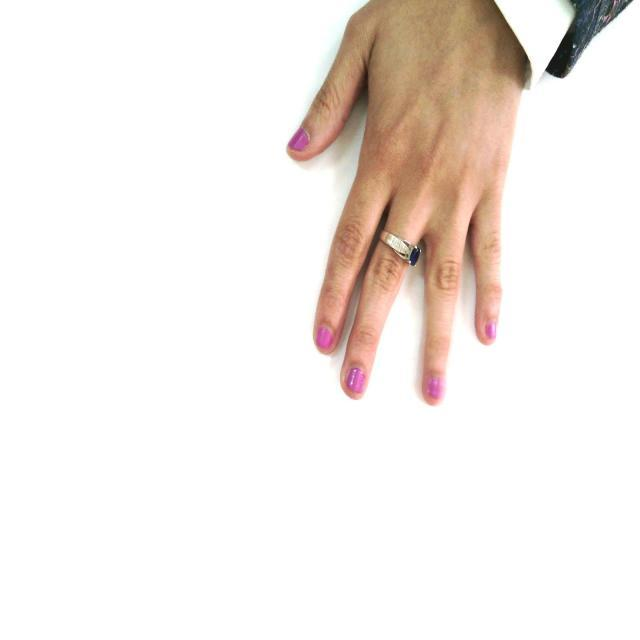Fingernail: (347, 368, 364, 394), (317, 326, 333, 351), (289, 129, 308, 149), (427, 375, 442, 399), (486, 322, 496, 340)
